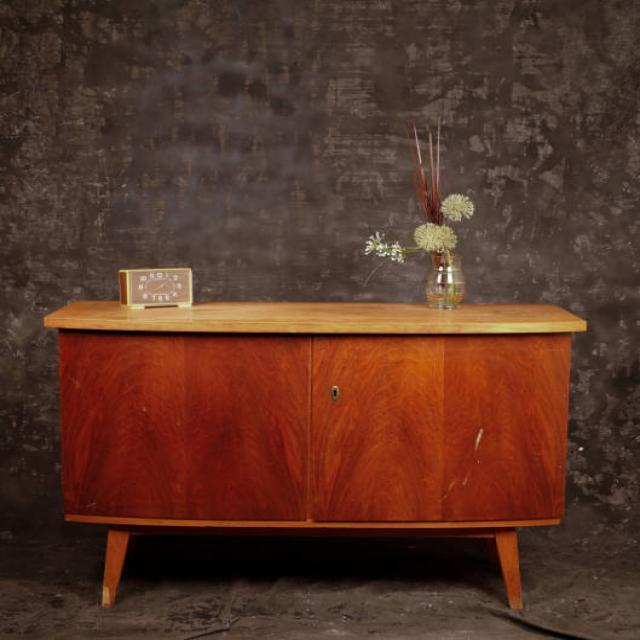table: (42, 298, 587, 611)
